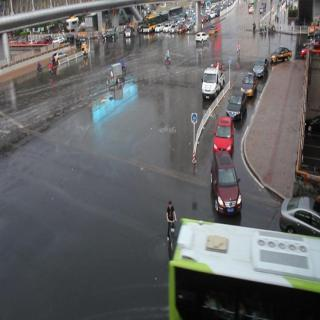Car: (207, 153, 244, 220), (198, 59, 228, 99), (211, 114, 236, 159), (226, 90, 248, 125), (269, 43, 292, 64), (242, 71, 258, 97), (253, 56, 271, 78), (101, 25, 117, 41), (52, 50, 68, 64), (195, 31, 209, 45), (208, 23, 220, 36)
